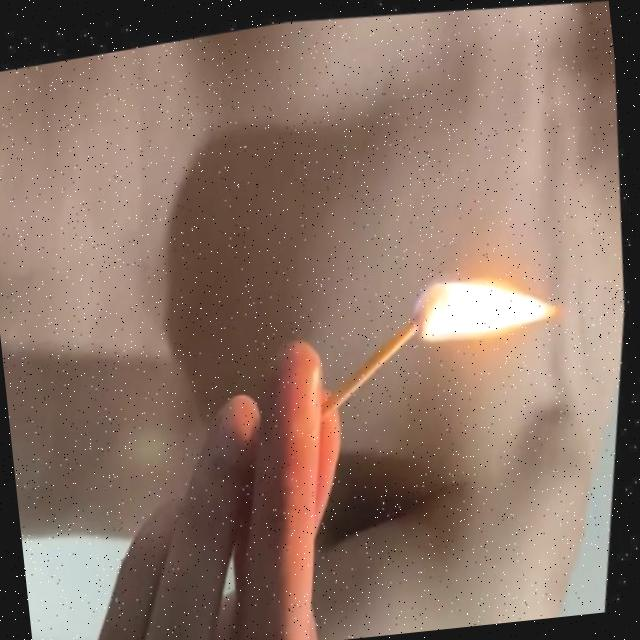fire: (406, 250, 591, 362)
